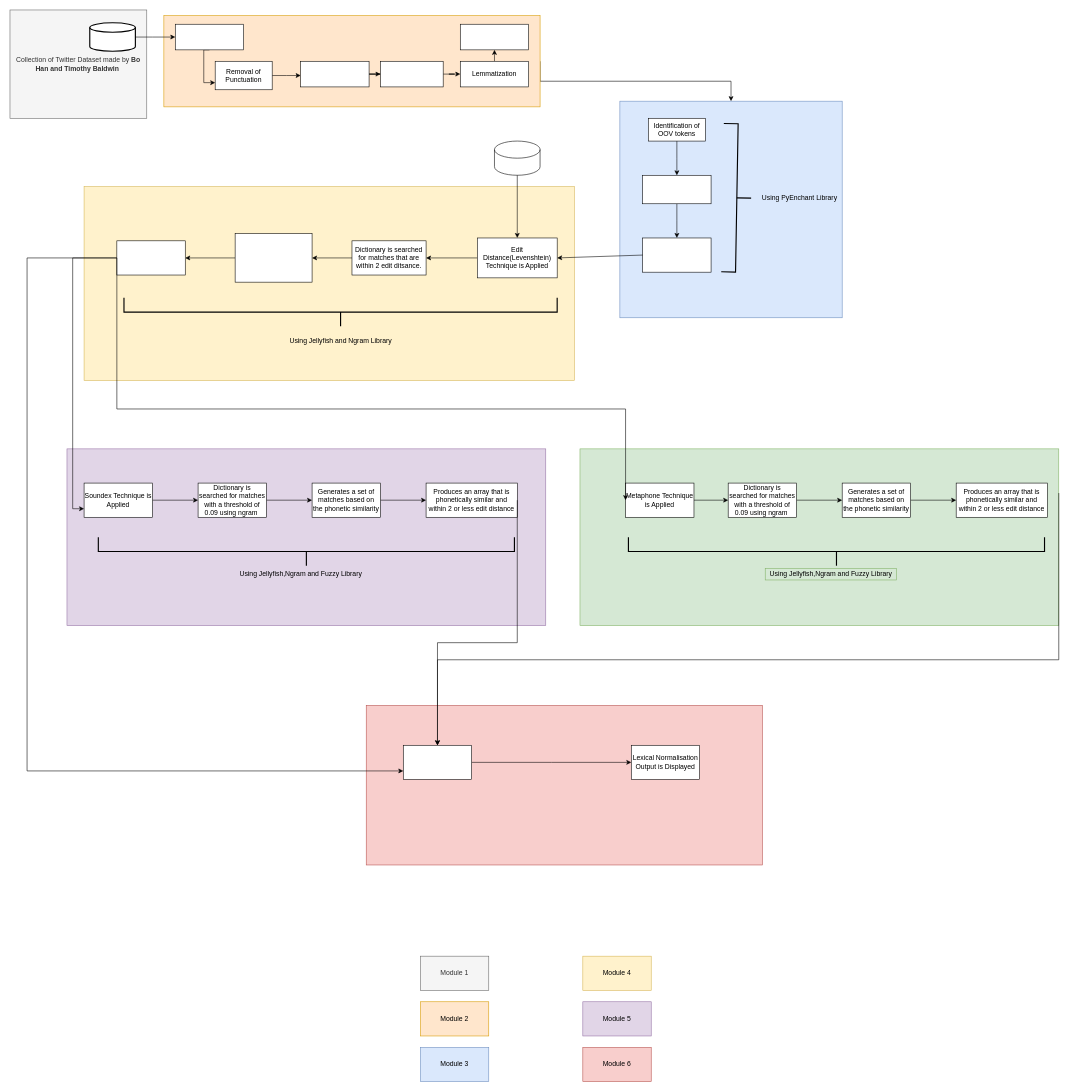
Some shapes in this 1073 by 1092 pixel diagram are drawn without their labels. The shapes that lost their labels are listed below. From the top down, each one's centre as x and y in pixels, then its label:
At (x=112, y=37): "Dataset".
At (x=209, y=37): "Converting to lowercase".
At (x=494, y=37): "Removal of Stop Words".
At (x=334, y=74): "Removing digits".
At (x=411, y=74): "Removing URLs/Mentions".
At (x=517, y=158): "Dictionary Dataset".
At (x=676, y=189): "Removal of IV Tokens".
At (x=150, y=257): "Results are stored in an array".
At (x=273, y=257): "Generates first set of of approximate matches based on textual similarity.".
At (x=676, y=254): "Only OOV words are left in the dataset".
At (x=437, y=762): "Precision and Recall of each algorithm is calculated".
